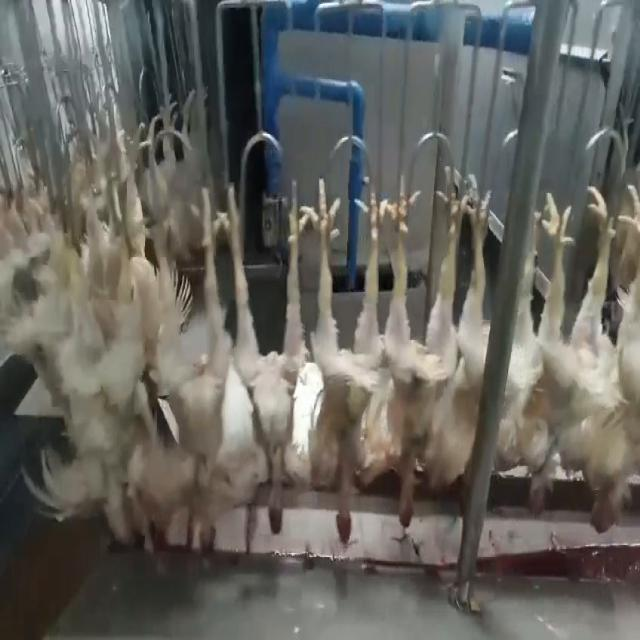chicken: (378, 157, 470, 534), (300, 180, 391, 552), (220, 180, 302, 538), (148, 184, 220, 539), (433, 160, 502, 498), (506, 188, 574, 523), (578, 177, 639, 540)
